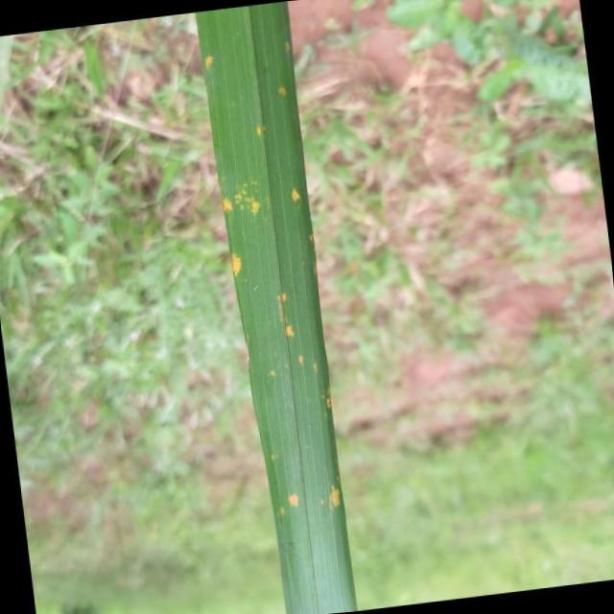Kalium: (198, 8, 357, 608)
